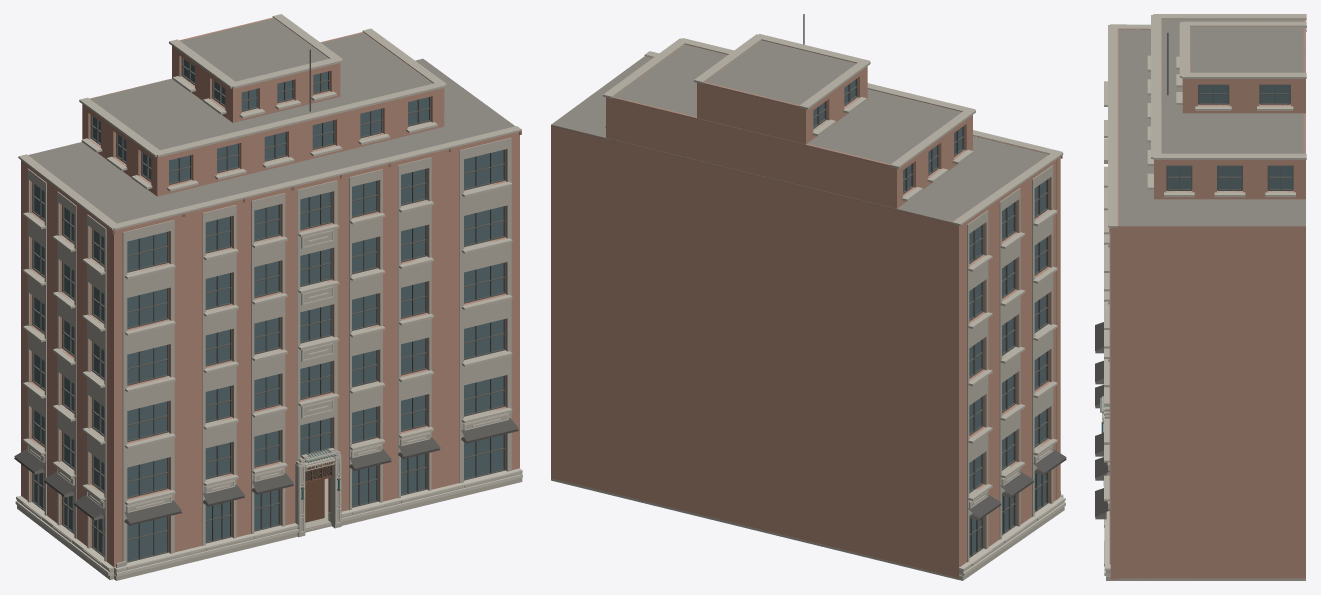
Rendered from huangpu-national-ywca-lod.glb.
3 views of the same model, side by side, from view 1: azimuth 30°, elevation 25°; view 2: azimuth 150°, elevation 25°; view 3: azimuth 270°, elevation 25° (orthographic).
Visible parts, largest first — view 1: 中华基督教女青年会大楼圆明园路主立面; view 2: 中华基督教女青年会大楼圆明园路主立面; view 3: 中华基督教女青年会大楼圆明园路主立面.
Part boxes in pixels (x1=…): 中华基督教女青年会大楼圆明园路主立面: x1=14, y1=14, x2=522, y2=580; 中华基督教女青年会大楼圆明园路主立面: x1=551, y1=14, x2=1066, y2=580; 中华基督教女青年会大楼圆明园路主立面: x1=1095, y1=14, x2=1306, y2=580.
Size of the model in its own units: 30.12 by 31.1 by 13.
